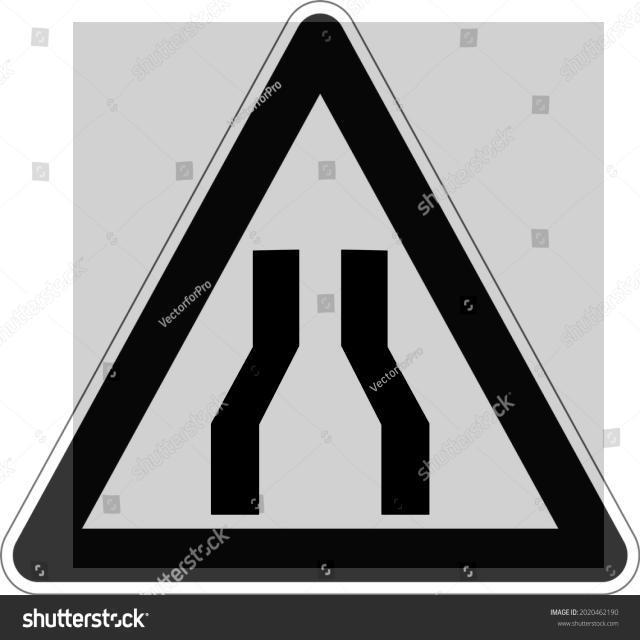narrow road ahead: (16, 23, 629, 583)
